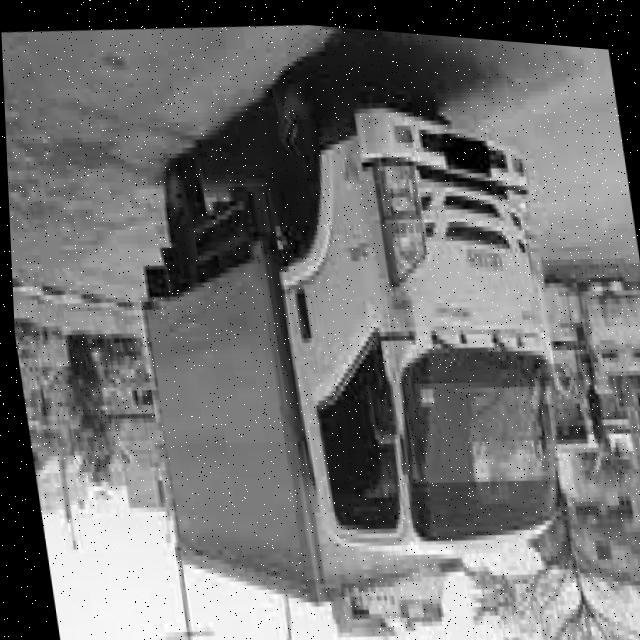truck: (237, 43, 613, 612)
